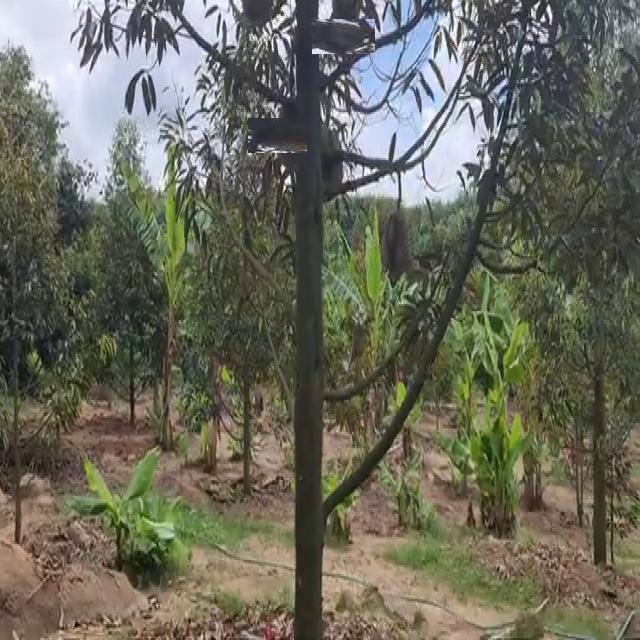durian: (260, 106, 320, 165), (307, 119, 345, 202), (380, 202, 416, 278), (319, 12, 369, 61)
